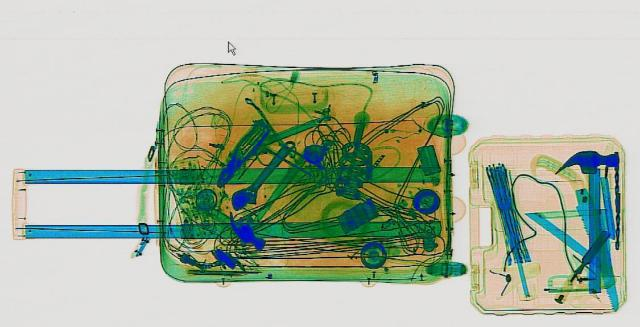Pliers: (204, 125, 272, 188)
Wrench: (220, 137, 304, 212)
